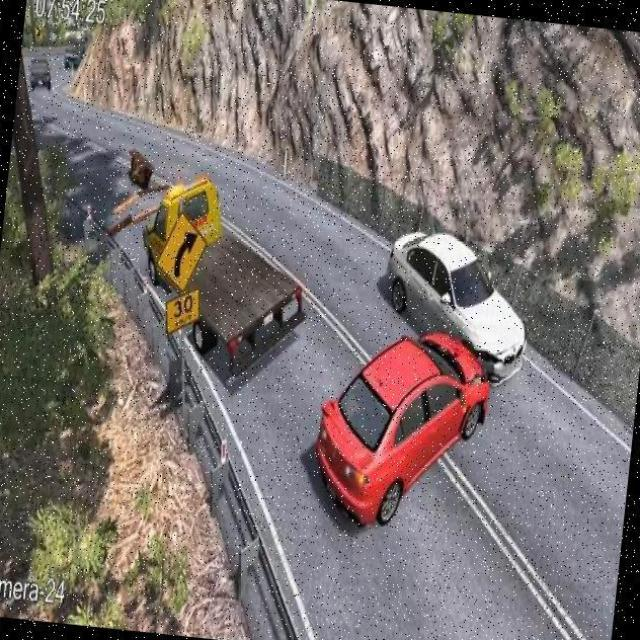accident: (301, 207, 542, 541)
